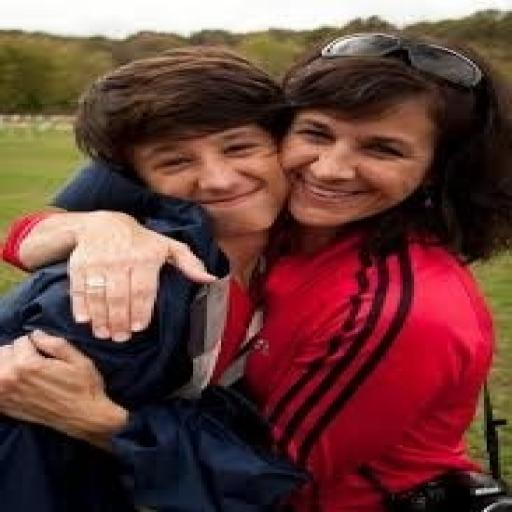hugging: (0, 32, 509, 510)
